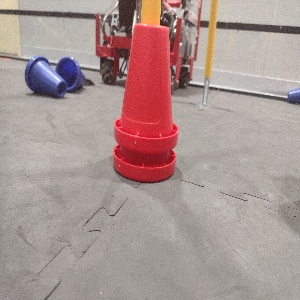Blue_1: (20, 51, 67, 99), (54, 56, 87, 89), (285, 85, 299, 106)
Red_2: (114, 21, 178, 181)
